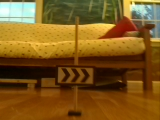right: (55, 66, 96, 85)
